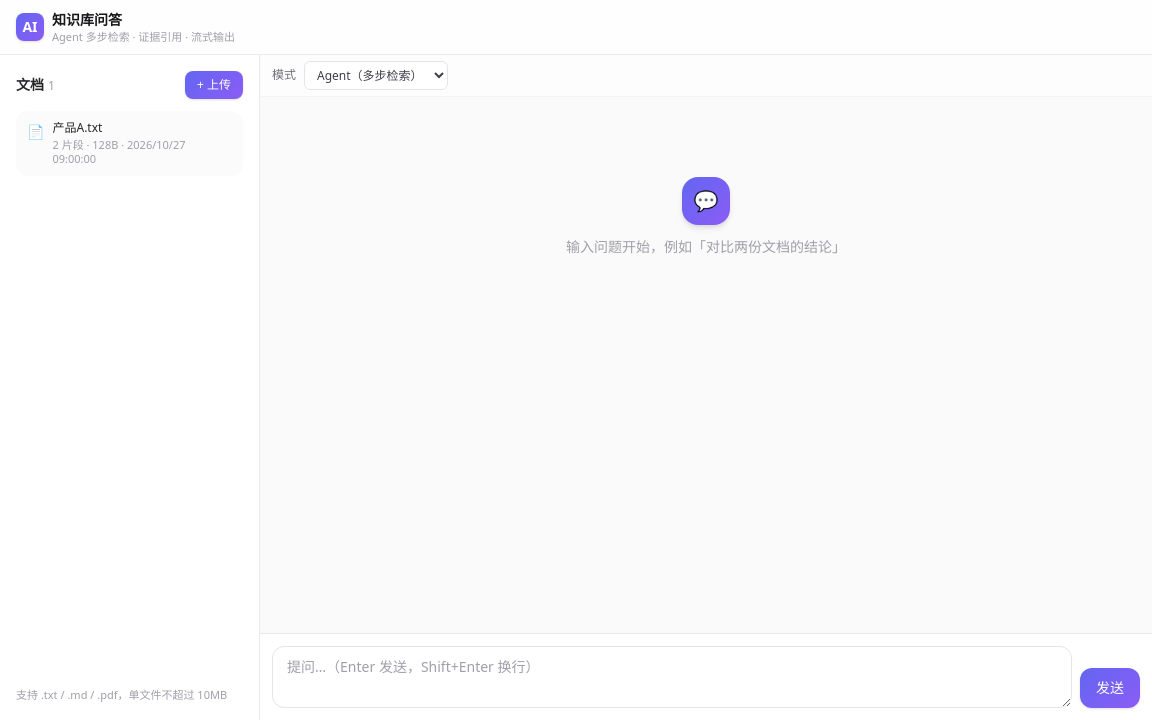
Test: 停止生成 › 点停止后清掉原始编号并显示已停止
The width and height of the screenshot is (1152, 720).
Type "苹果" into the text box with test id "chat-input". click: (672, 677)
box: [272,646,1072,708]
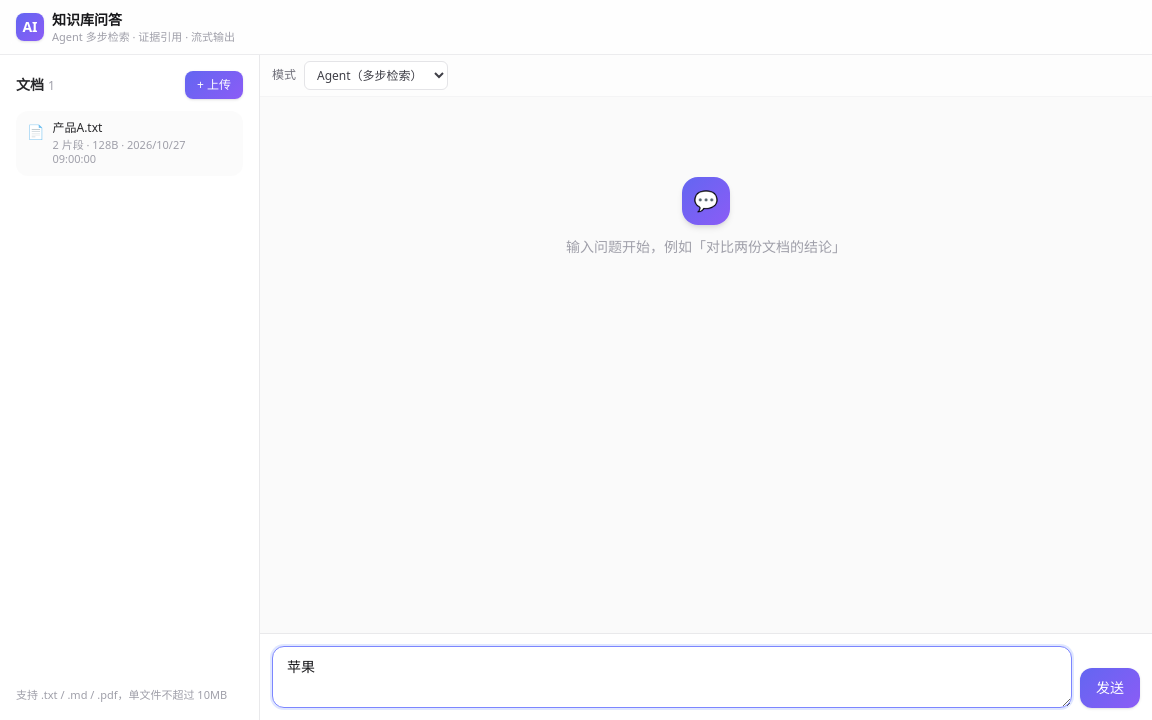
Click the button with test id "send-button". click: (1110, 688)
box: [1080,668,1140,708]
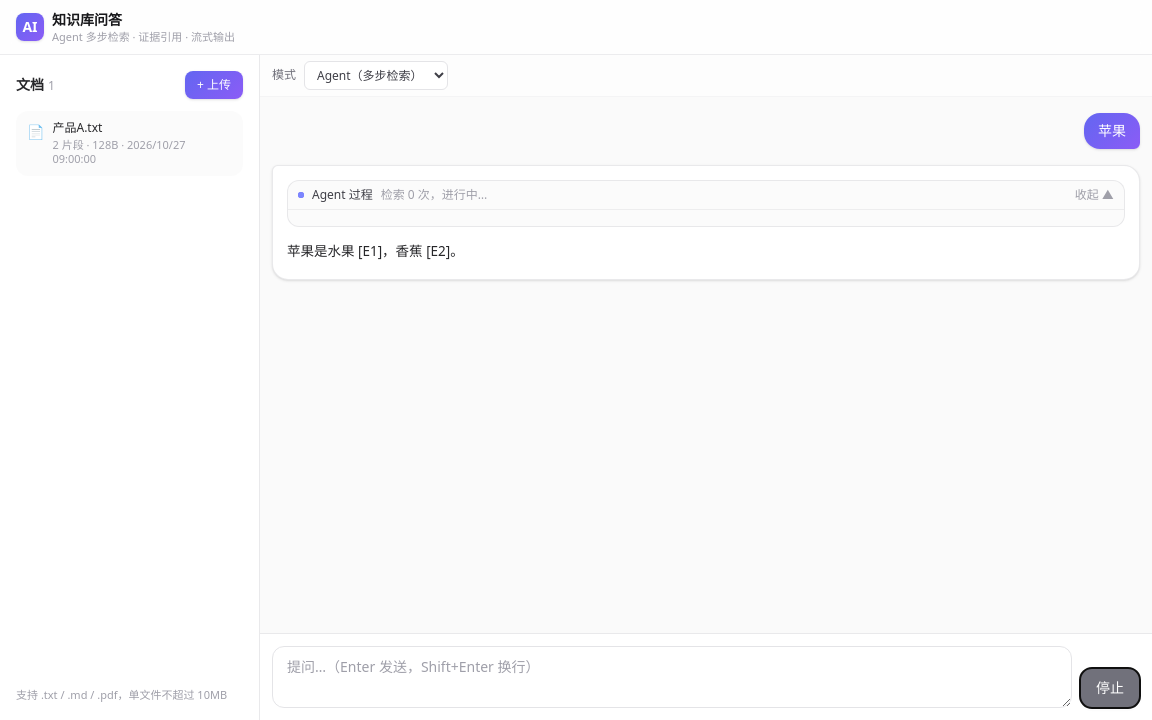
Expected: the button with test id "send-button" reads "停止"
Click the button with test id "send-button". click: (1110, 688)
box: [1080,668,1140,708]
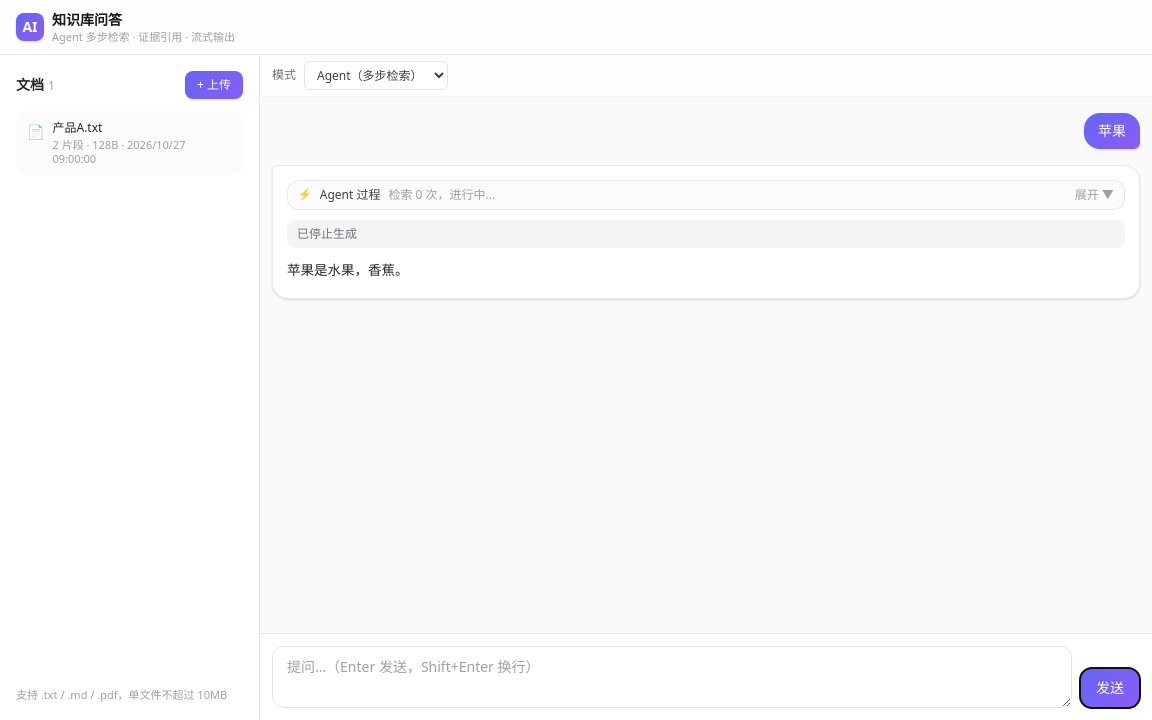
Expected: the element with test id "assistant-" does not show "[E1]"
Expected: the message "已停止生成" is shown, [287,220,1125,248]
Expected: the message with test id "stopped-hint" reads "已停止生成", [297,225,357,242]
